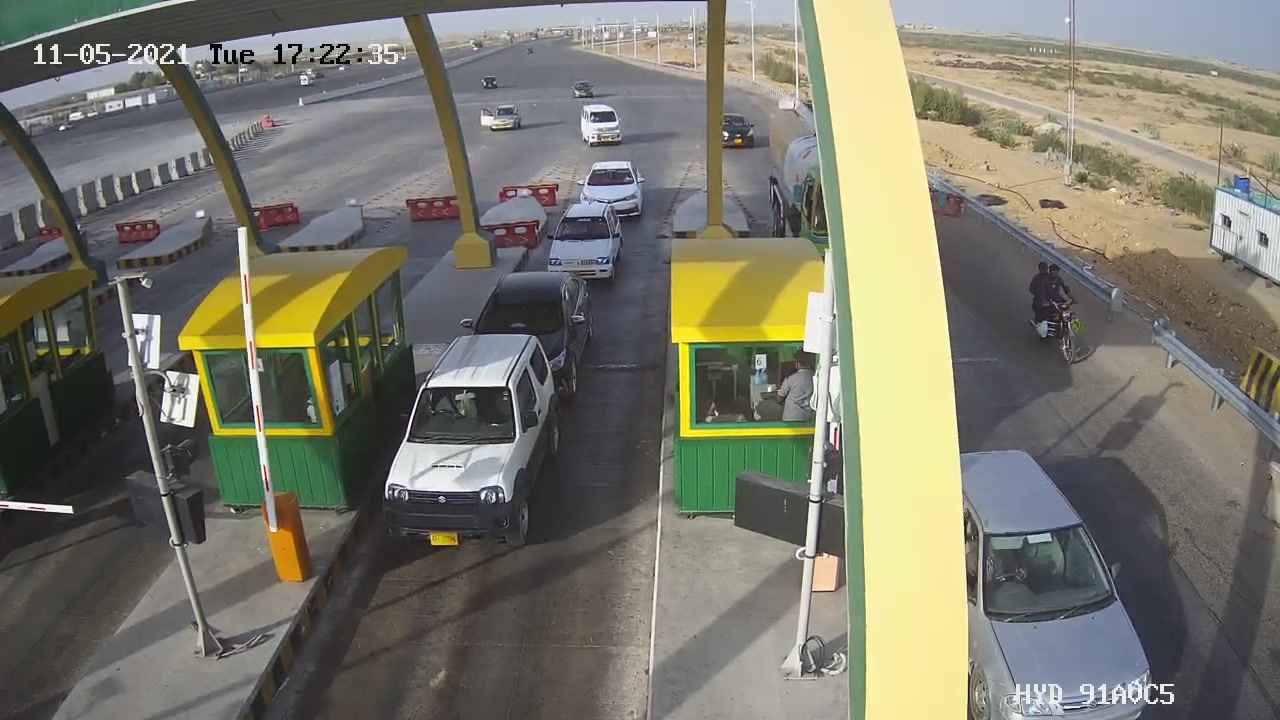F1: (366, 318, 589, 572), (531, 192, 638, 294)
